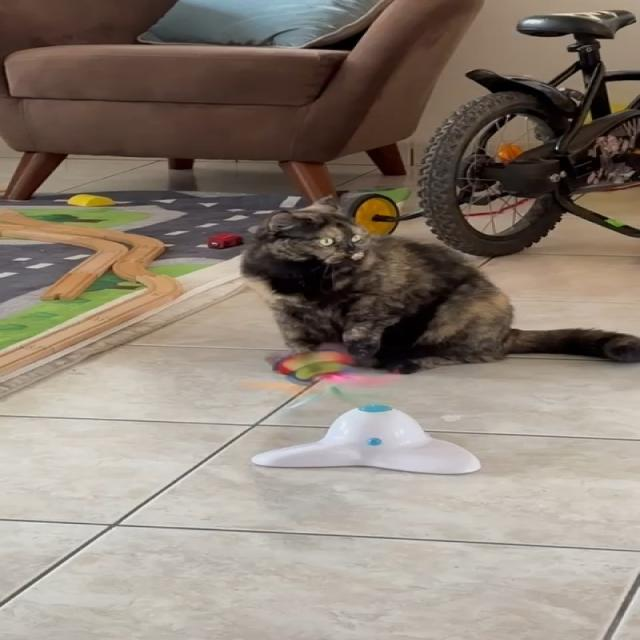authorized: (238, 194, 638, 375)
